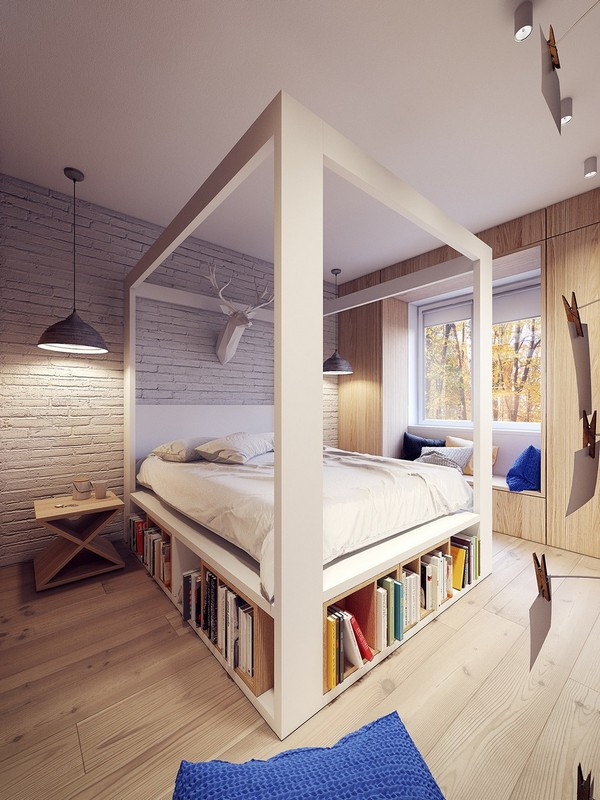bed: (125, 93, 496, 744)
lamp: (35, 162, 113, 358), (322, 266, 355, 379)
stool: (28, 485, 127, 593)
